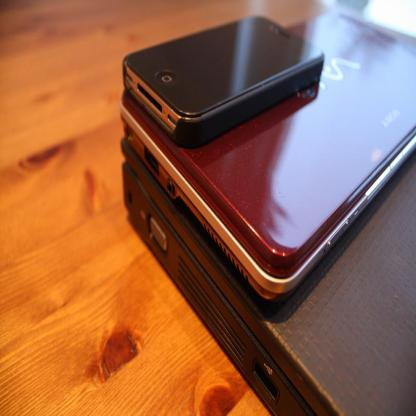board: (121, 137, 416, 416)
